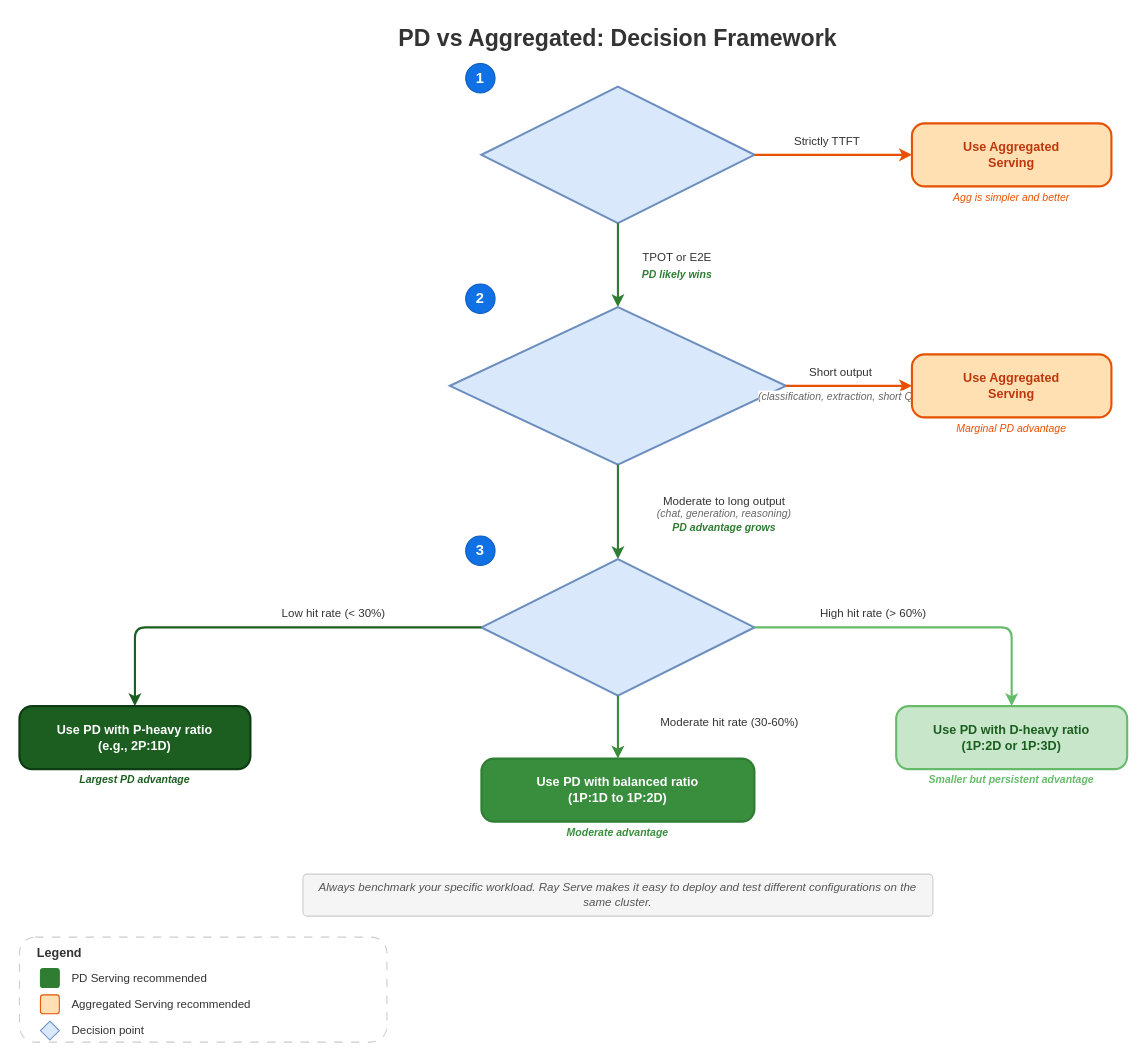
The diagram is 1146 pixels wide and 1061 high, and some of its shapes have lost their labels. Here are the shapes that lost their labels. From the top down, the centre of each, then its label:
At (x=617, y=154): "What's your primary SLA constraint?".
At (x=617, y=385): "Is your output long enough for TPOT savings to compound?".
At (x=617, y=627): "What's your KV cache hit rate?".
